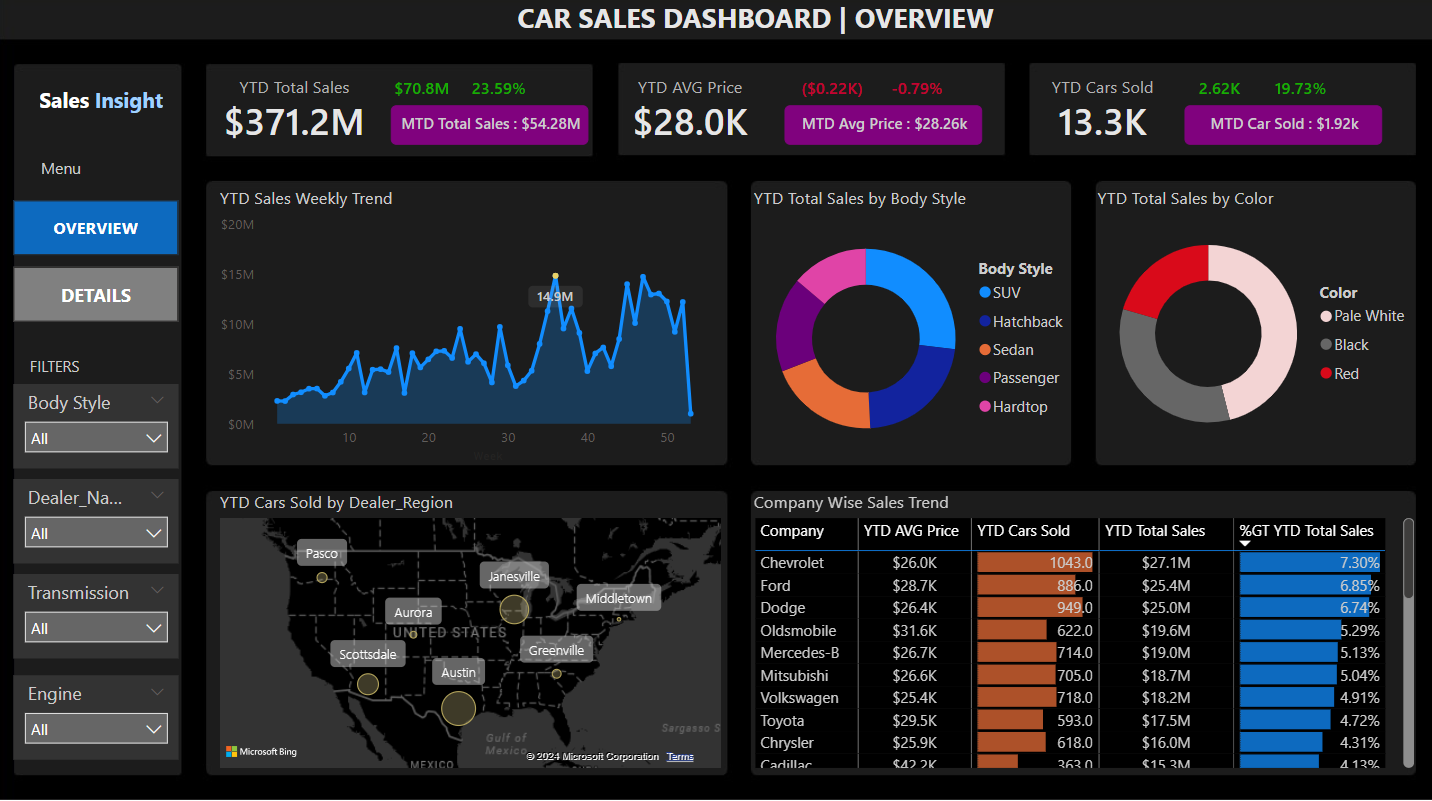

Layout of this report page (visuals, bound fields, positions):
{"tool":"powerbi","page":{"name":"OVERVIEW","canvas":[1280,720],"ordinal":0},"visuals":[{"type":"card","title":"YTD Total Sales","fields":{"Values":["car_data.YTD Total Sales"]},"box":[193.8,72.5,142.5,61.2],"z":0},{"type":"card","fields":{"Values":["car_data.Sales Difference"]},"box":[336.2,67.5,85,36.2],"z":1000},{"type":"card","fields":{"Values":["car_data.YoY Sales Growth"]},"box":[410,67.5,75,36.2],"z":2000},{"type":"card","title":"MTD Total Sales :","fields":{"Values":["car_data.MTD KPI"]},"box":[350,98.8,176.2,35],"z":3000},{"type":"card","title":"YTD AVG Price","fields":{"Values":["car_data.YTD AVG Price"]},"box":[555,72.5,123.8,61.2],"z":4000},{"type":"card","fields":{"Values":["car_data.AVG Sales Diff"]},"box":[701.2,67.5,85,36.2],"z":5000},{"type":"card","fields":{"Values":["car_data.YoY Avg Price Growth"]},"box":[776.2,67.5,85,36.2],"z":6000},{"type":"card","title":"MTD Total Sales :","fields":{"Values":["car_data.MTD Avg Price KPI"]},"box":[701.2,98.8,176.2,35],"z":7000},{"type":"card","title":"YTD Cars Sold","fields":{"Values":["car_data.YTD Cars Sold"]},"box":[922.5,72.5,123.8,61.2],"z":8000},{"type":"card","fields":{"Values":["car_data.Cars Sold Diff"]},"box":[1046.2,67.5,85,36.2],"z":9000},{"type":"card","fields":{"Values":["car_data.YoY Car Sold Growth"]},"box":[1118.8,67.5,85,36.2],"z":10000},{"type":"card","title":"MTD Total Sales :","fields":{"Values":["car_data.MTD Car Sold KPI"]},"box":[1057.5,98.8,176.2,35],"z":11000},{"type":"areaChart","title":"YTD Sales Weekly Trend","fields":{"Category":["Calender Table.Week"],"Y":["Sum(car_data.Price ($))","car_data.Max Point on Area chart"]},"box":[193.8,171.2,446.2,251.2],"z":12000},{"type":"donutChart","fields":{"Category":["car_data.Body Style"],"Y":["car_data.YTD Total Sales"]},"box":[668.8,171.2,293.8,251.2],"z":13000},{"type":"donutChart","title":"YTD Total Sales by Color","fields":{"Category":["car_data.Color"],"Y":["car_data.Total Sales"]},"box":[975,171.2,292.5,242.5],"z":14000},{"type":"map","fields":{"Category":["car_data.Dealer_Region"],"Size":["car_data.YTD Cars Sold"]},"box":[193.8,441.2,456.2,252.5],"z":15000},{"type":"tableEx","title":"Company Wise Sales Trend","fields":{"Values":["car_data.Company","car_data.YTD AVG Price","car_data.YTD Cars Sold","car_data.YTD Total Sales1","car_data.YTD Total Sales"]},"box":[668.8,441.2,597.5,252.5],"z":16000},{"type":"textbox","box":[438.8,0,473.8,46.2],"z":17000},{"type":"slicer","fields":{"Values":["car_data.Body Style"]},"box":[15,347.5,147.5,75],"z":18000},{"type":"slicer","fields":{"Values":["car_data.Dealer_Name"]},"box":[15,431.2,147.5,75],"z":19000},{"type":"slicer","fields":{"Values":["car_data.Transmission"]},"box":[15,516.2,147.5,75],"z":20000},{"type":"slicer","fields":{"Values":["car_data.Engine"]},"box":[15,606.2,147.5,75],"z":21000},{"type":"textbox","box":[15,317.5,73.8,30],"z":22000},{"type":"textbox","box":[23.8,76.2,138.8,40],"z":22001},{"type":"textbox","box":[20,140,73.8,30],"z":22004},{"type":"pageNavigator","box":[15,183.8,147.5,108.8],"z":22005}]}

Visuals, with their boxes in screenshot pixels (x1, y1, x2, y2), scaled from the page's 1280x720 canvas onto the 1432x801 screenshot:
"YTD Total Sales" card: bbox=(217, 81, 376, 149)
card - car_data.Sales Difference: bbox=(376, 75, 471, 115)
card - car_data.YoY Sales Growth: bbox=(459, 75, 543, 115)
"MTD Total Sales :" card: bbox=(392, 110, 589, 149)
"YTD AVG Price" card: bbox=(621, 81, 759, 149)
card - car_data.AVG Sales Diff: bbox=(784, 75, 880, 115)
card - car_data.YoY Avg Price Growth: bbox=(868, 75, 963, 115)
"MTD Total Sales :" card: bbox=(784, 110, 982, 149)
"YTD Cars Sold" card: bbox=(1032, 81, 1171, 149)
card - car_data.Cars Sold Diff: bbox=(1170, 75, 1266, 115)
card - car_data.YoY Car Sold Growth: bbox=(1252, 75, 1347, 115)
"MTD Total Sales :" card: bbox=(1183, 110, 1380, 149)
"YTD Sales Weekly Trend" areaChart: bbox=(217, 190, 716, 470)
donutChart - car_data.Body Style x car_data.YTD Total Sales: bbox=(748, 190, 1077, 470)
"YTD Total Sales by Color" donutChart: bbox=(1091, 190, 1418, 460)
map - car_data.Dealer_Region x car_data.YTD Cars Sold: bbox=(217, 491, 727, 772)
"Company Wise Sales Trend" tableEx: bbox=(748, 491, 1417, 772)
textbox: bbox=(491, 0, 1021, 51)
slicer - car_data.Body Style: bbox=(17, 387, 182, 470)
slicer - car_data.Dealer_Name: bbox=(17, 480, 182, 563)
slicer - car_data.Transmission: bbox=(17, 574, 182, 658)
slicer - car_data.Engine: bbox=(17, 674, 182, 758)
textbox: bbox=(17, 353, 99, 387)
textbox: bbox=(27, 85, 182, 129)
textbox: bbox=(22, 156, 105, 189)
pageNavigator: bbox=(17, 204, 182, 326)
